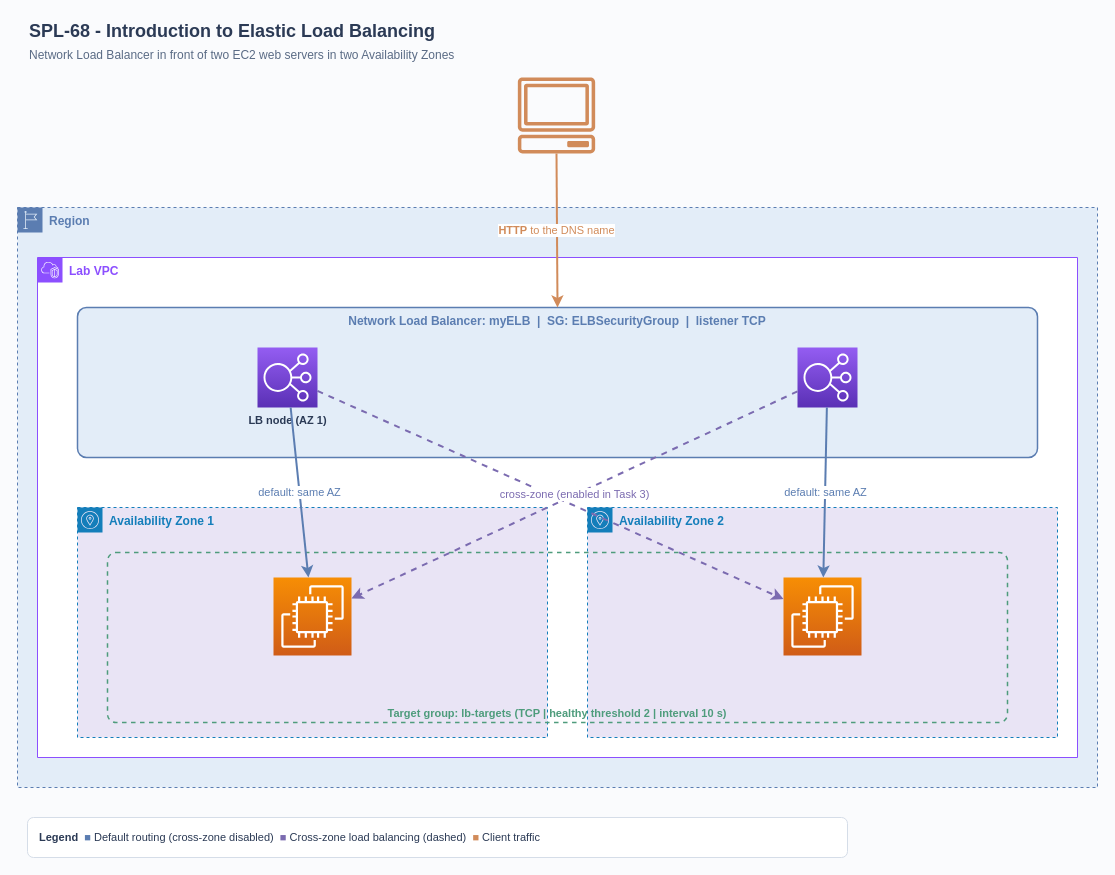
Image size: 1115x875. Some labels were removed from this diagram. The centre of each missing label's shape, as x and y in pixels:
"Browser myELB DNS name (HTTP, TCP 80)" belongs at (556,115).
"EC2 Instance 1 Test Website - EC2 Instance 1 web server (HTTP)" belongs at (312,616).
"EC2 Instance 2 Test Website - EC2 Instance 2 web server (HTTP)" belongs at (822,616).
"LB node (AZ 2)" belongs at (827,377).
